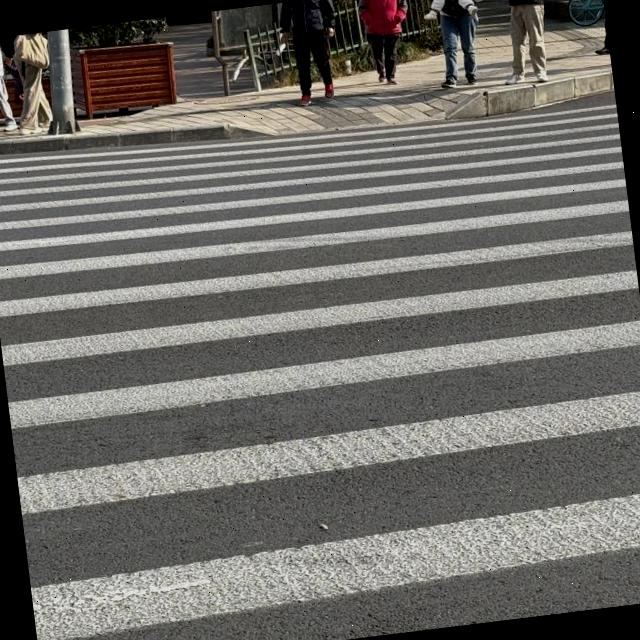curb: (0, 123, 267, 154), (445, 70, 613, 118)
